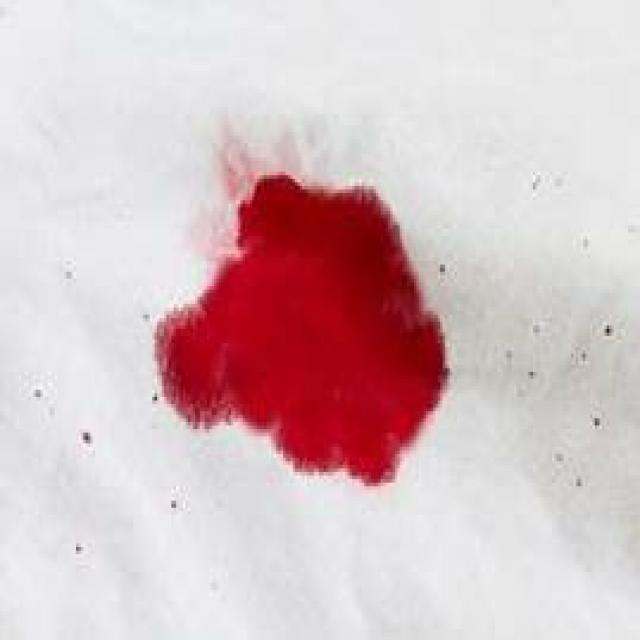wound: (104, 130, 508, 500)
